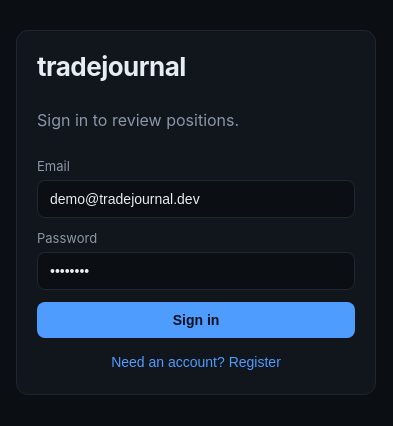
Test case: Login › shows the server's reason on bad credentials and stays signed out
Click the button "Sign in".
click(196, 320)  # box [37,302,355,338]
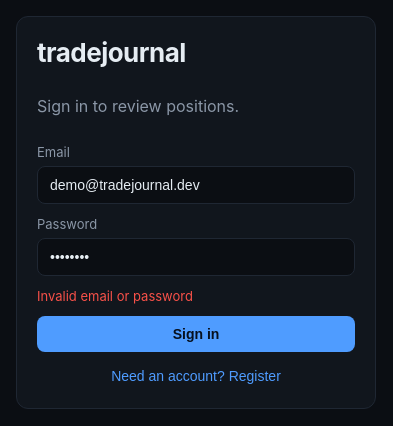
Result: the text "Invalid email or password" is shown at [37,288,193,304]
